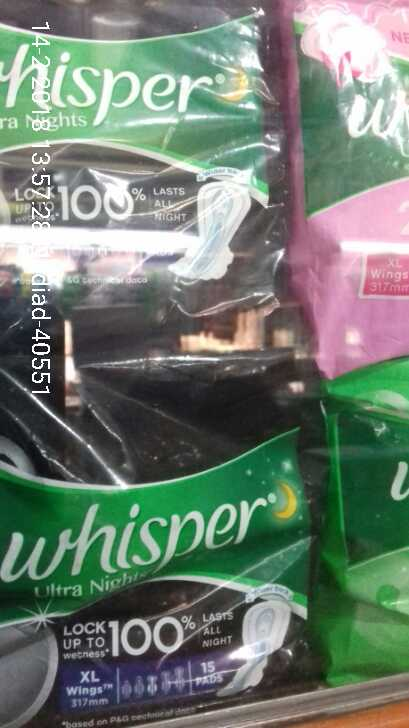whisper: (5, 366, 318, 687), (1, 3, 287, 328), (289, 3, 409, 357), (327, 364, 409, 682)
